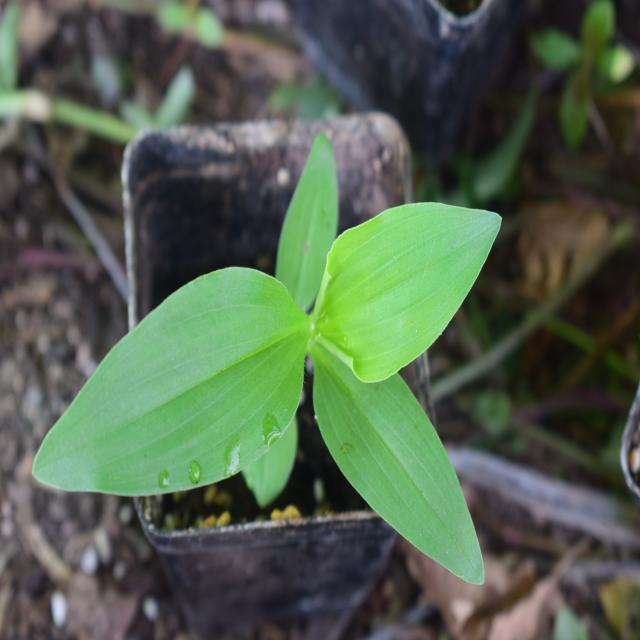Common Dayflower: (66, 183, 505, 585)
